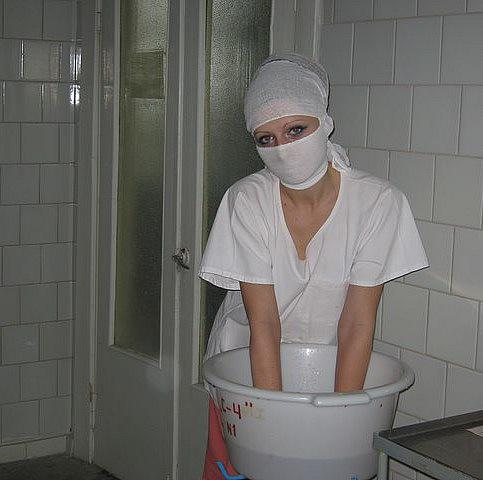OK: (254, 114, 326, 186)
